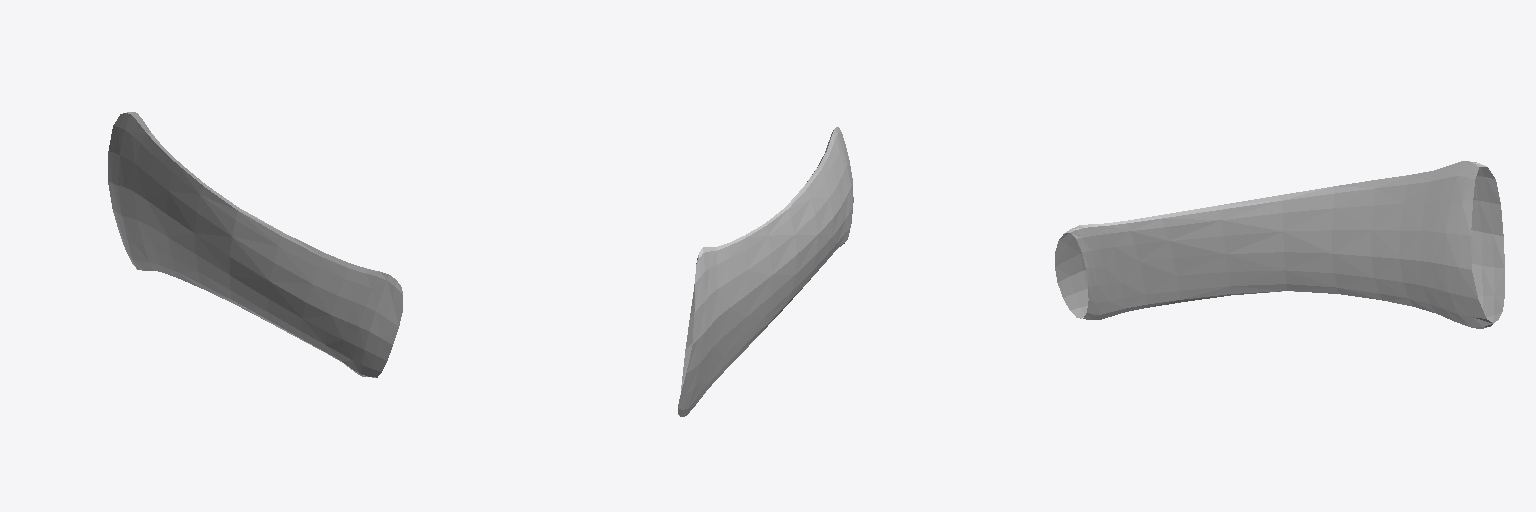
File: auricular_anterior_right.obj
3 views of the same model, side by side, from view 1: azimuth 30°, elevation 25°; view 2: azimuth 150°, elevation 25°; view 3: azimuth 270°, elevation 25° (orthographic).
Visible parts, largest first — view 1: Auricular_Anterior_Muscle_Right; view 2: Auricular_Anterior_Muscle_Right; view 3: Auricular_Anterior_Muscle_Right.
Boxes of the visible parts, box(x1,y1,x2,y2) form: Auricular_Anterior_Muscle_Right: box(108, 112, 402, 377); Auricular_Anterior_Muscle_Right: box(678, 127, 853, 416); Auricular_Anterior_Muscle_Right: box(1055, 161, 1504, 328).
Bounding box in the file's own units: 0.0572 × 0.1209 × 0.2992.